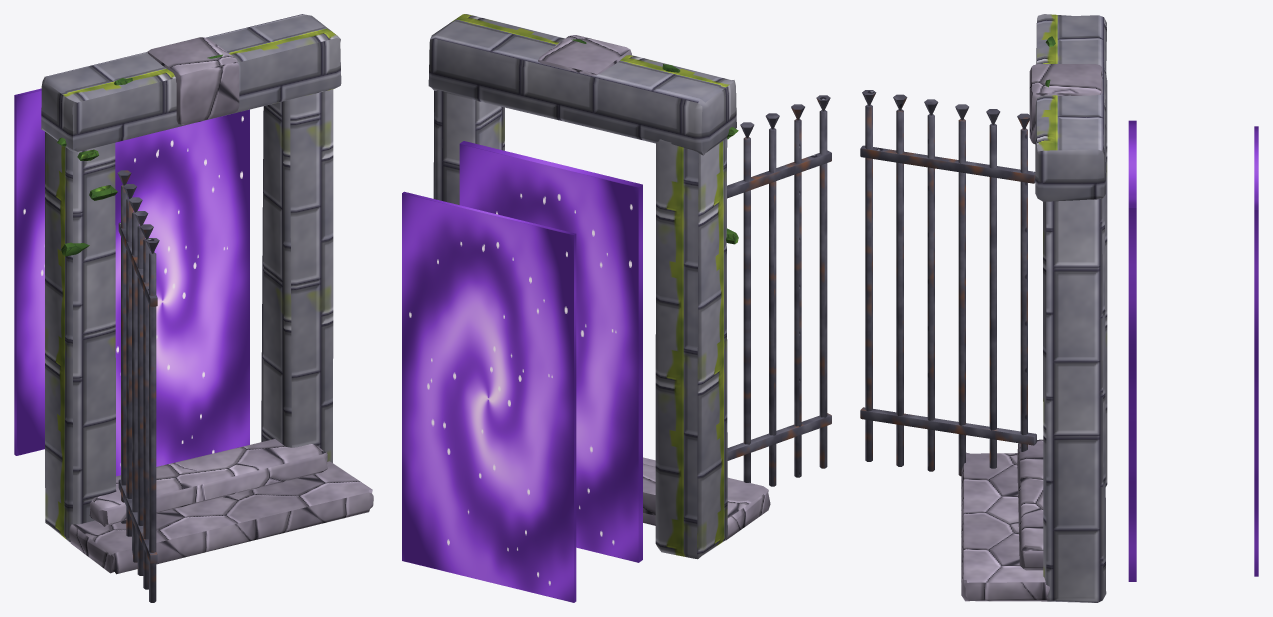
File: mausoleum_portal.gltf
3 renders of one model, left to right at view 1: azimuth 30°, elevation 25°; view 2: azimuth 150°, elevation 25°; view 3: azimuth 270°, elevation 25°, orthographic. The views are drawn at different scales.
Parts seen in each view (by area): view 1: mausoleum_portal_mesh, INT_gate; view 2: mausoleum_portal_mesh, INT_gate; view 3: mausoleum_portal_mesh, INT_gate.
Part boxes in pixels (x1,y1,x2,y2): mausoleum_portal_mesh: (14,14,373,574); INT_gate: (117,170,159,602); mausoleum_portal_mesh: (402,14,770,602); INT_gate: (727,95,831,486); mausoleum_portal_mesh: (961,14,1258,602); INT_gate: (860,90,1036,476).
Size of what is drawn, in the model's own units: 1.59 by 2.49 by 1.93.
5 materials, 5 textured.
